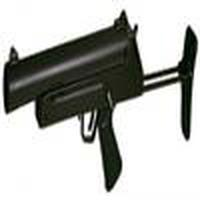gun: (3, 14, 200, 159)
